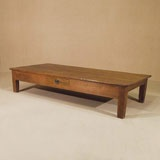obstacle: (10, 64, 150, 117)
